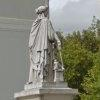Statue: (23, 4, 71, 88)
